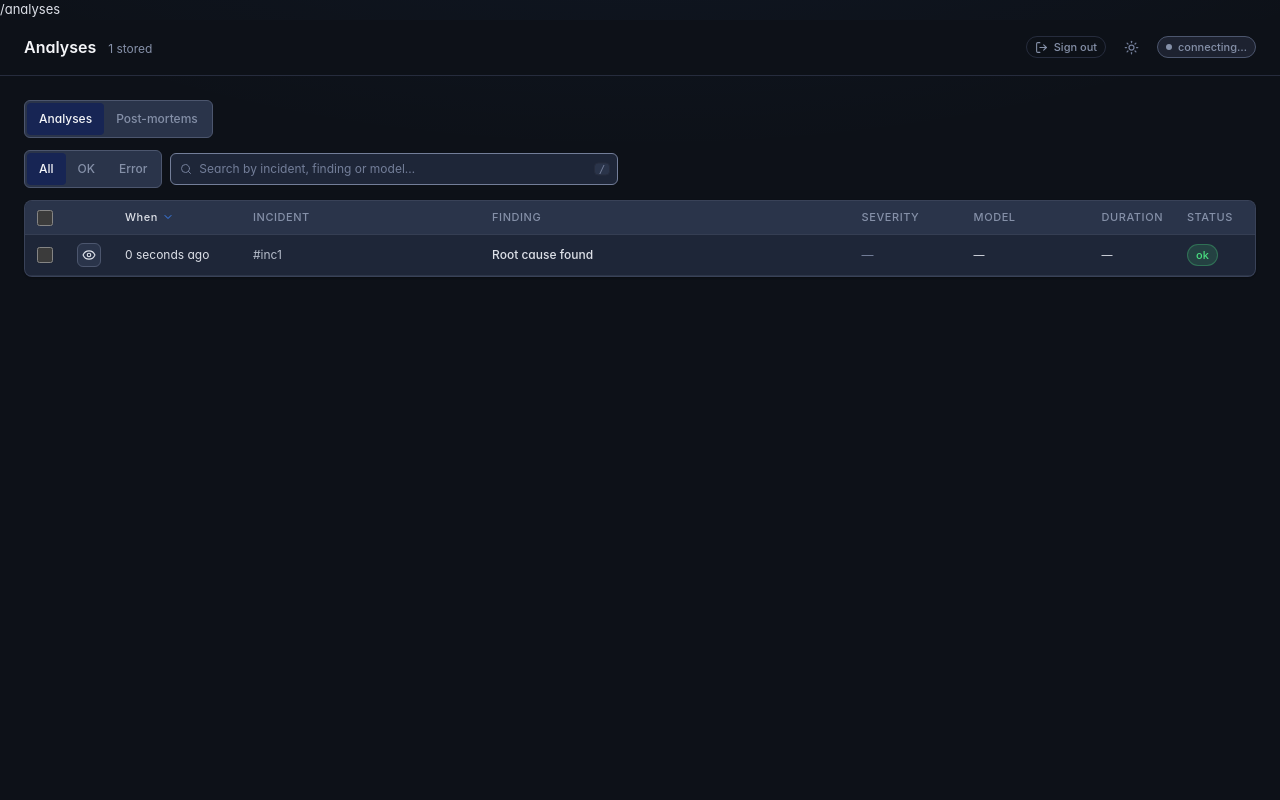
Test: AnalysesListPage row actions › opens a peek from the eye without navigating
Step 1. Click the button named "View analysis a1" → (89, 254), box left=77, top=242, right=101, bottom=266
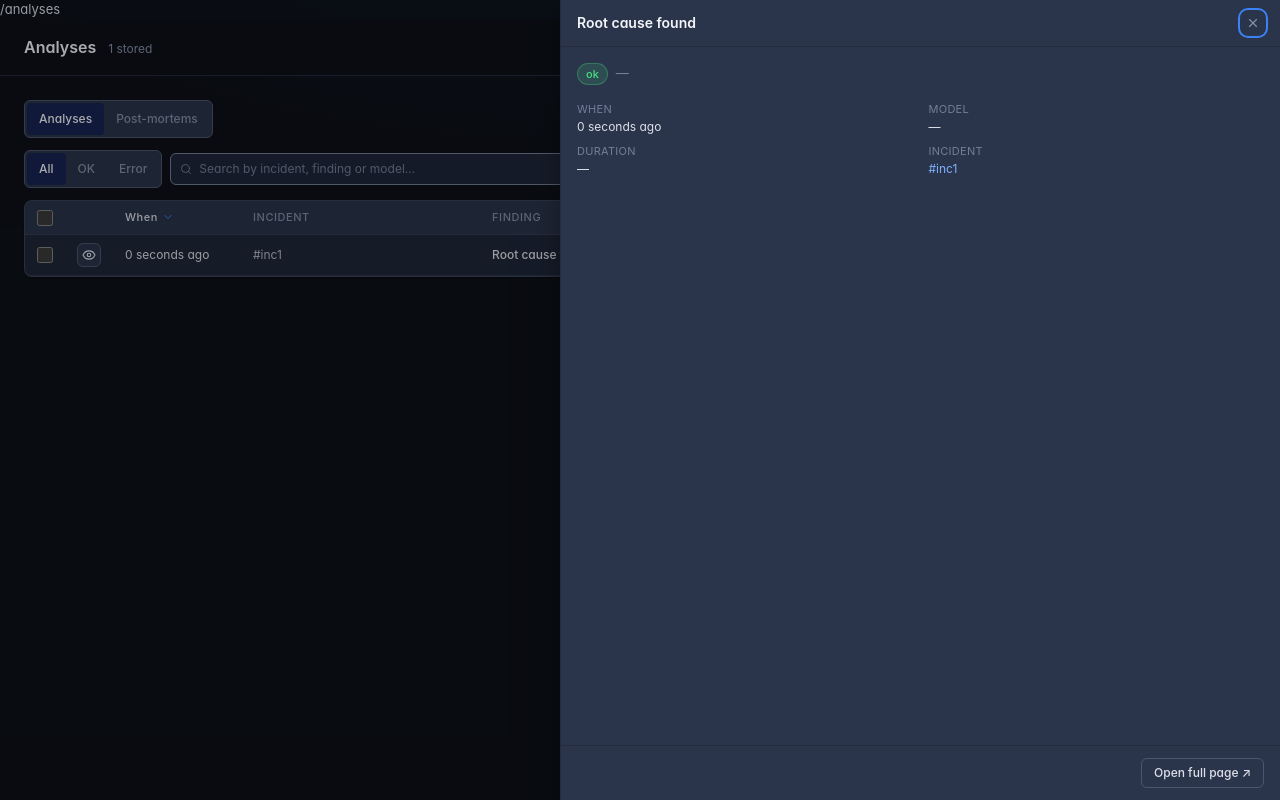
Expected: the text with test id "path" reads "/analyses", left=0, top=1, right=60, bottom=17
Expected: the link "Open full page ↗" is shown, left=1141, top=758, right=1264, bottom=788
